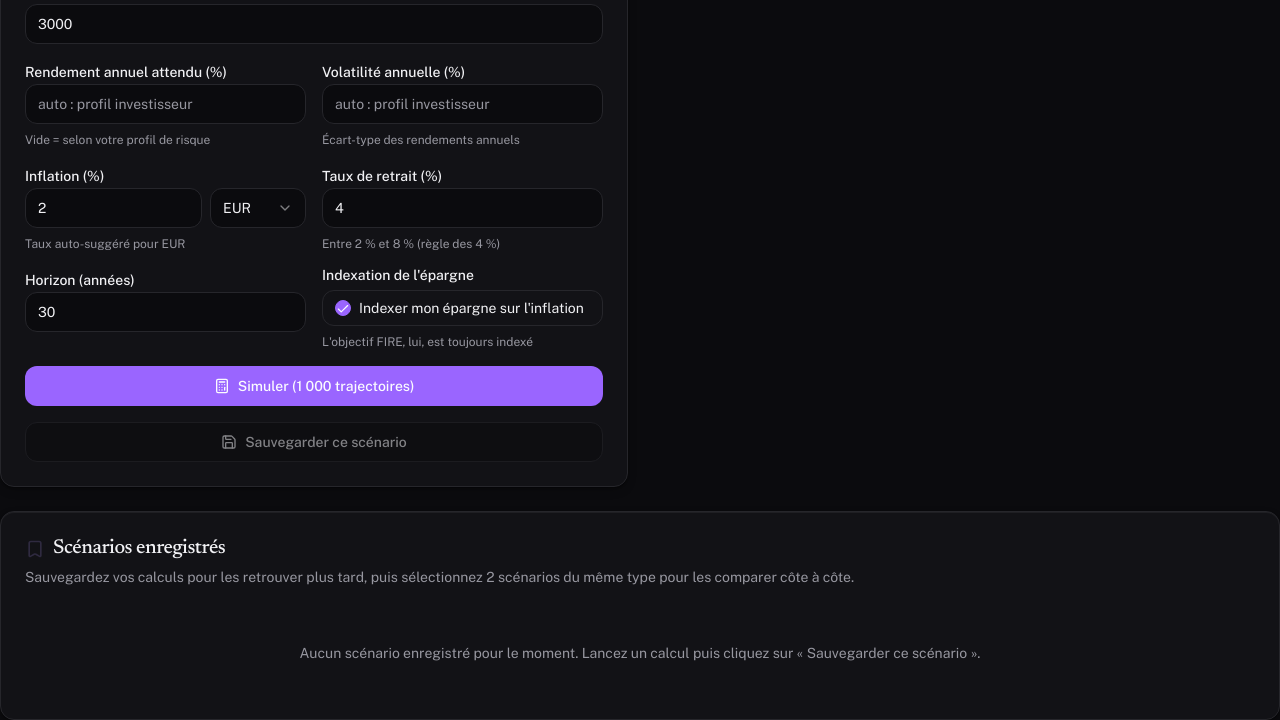
SimulationsPage — traduction des paramètres FIRE › réinjecte dans les champs les hypothèses réellement appliquées
The width and height of the screenshot is (1280, 720).
(page scrolled)
Click the button "Simuler (1 000 trajectoires)" at (314, 386), box [25,366,603,406]
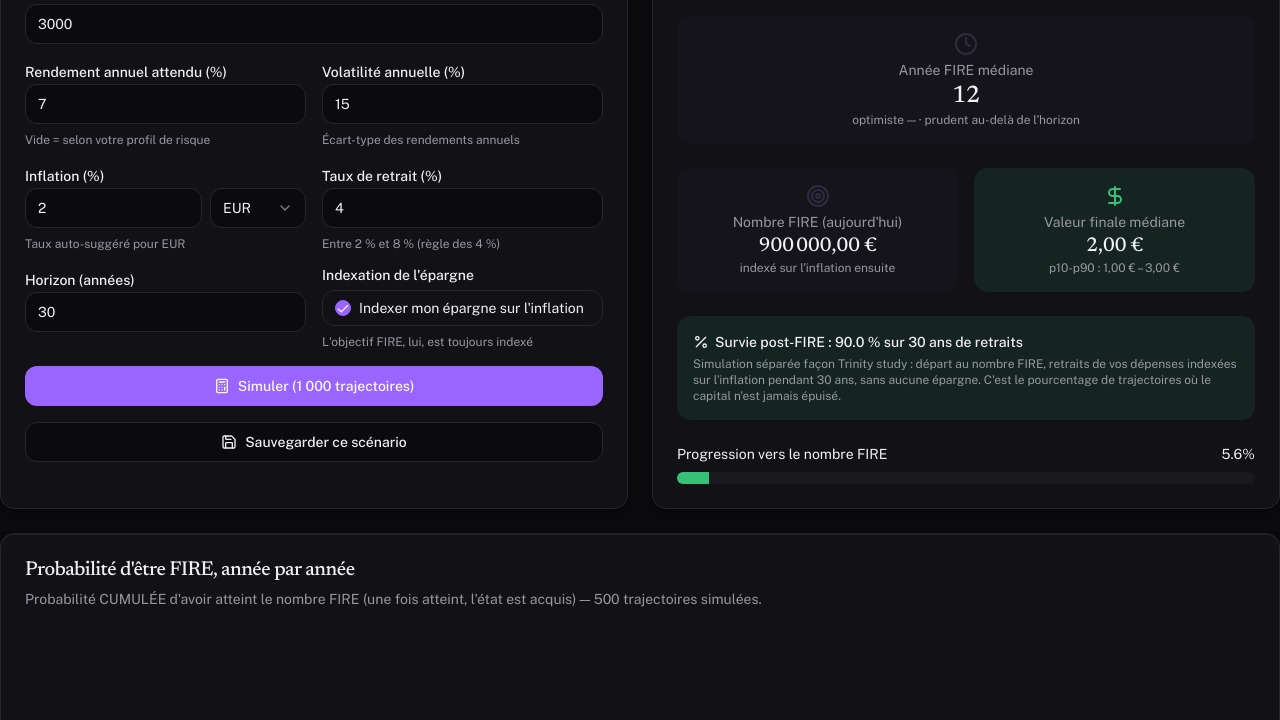
Check: the number field labelled "Rendement annuel attendu (%)" holds "7", box [25,84,306,124]
